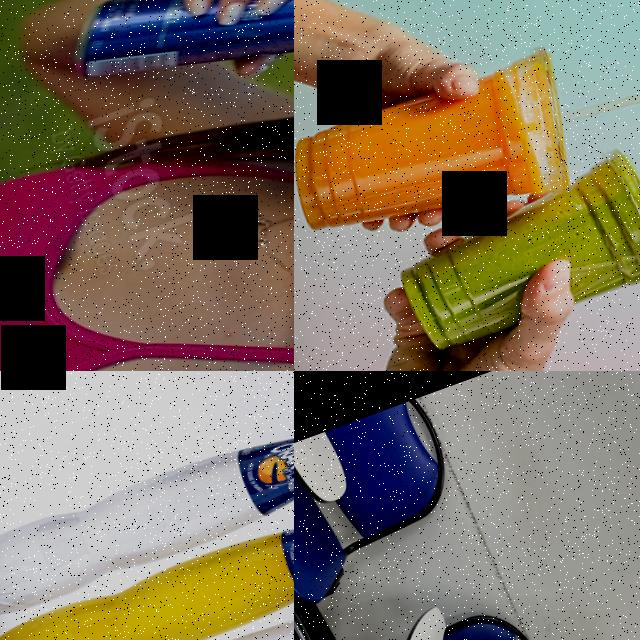bottle: (0, 371, 294, 629), (0, 453, 294, 640), (11, 538, 294, 640)
can: (48, 0, 294, 143)
cup: (294, 44, 593, 280), (376, 145, 640, 370)
